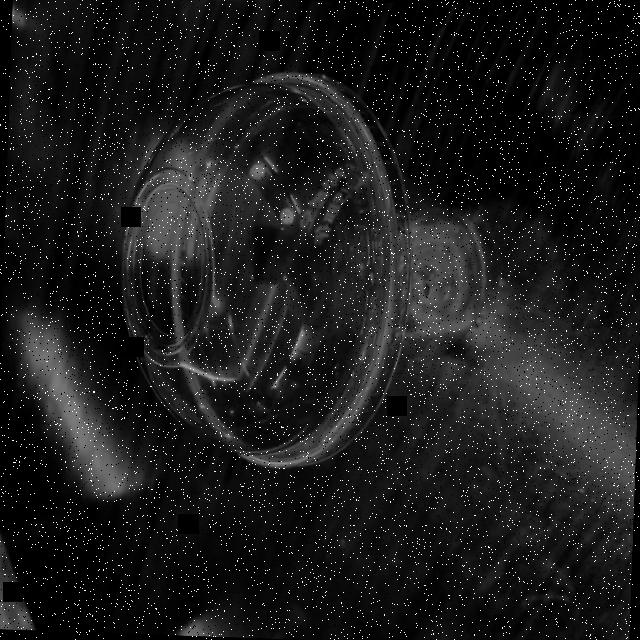plastic_cup_lid: (106, 56, 418, 482)
